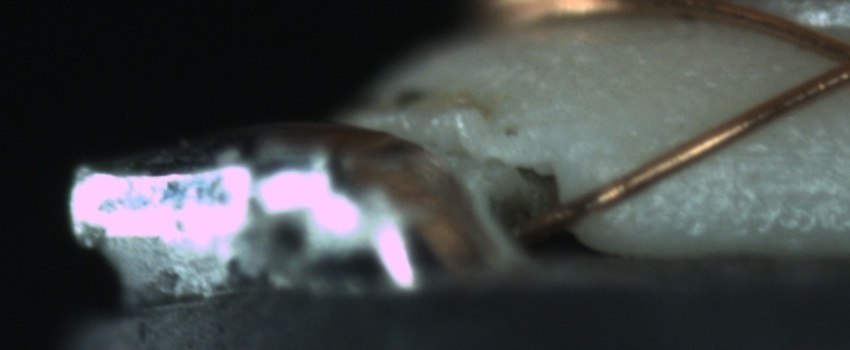CL: (807, 26, 850, 92)
DL: (686, 125, 849, 183)
